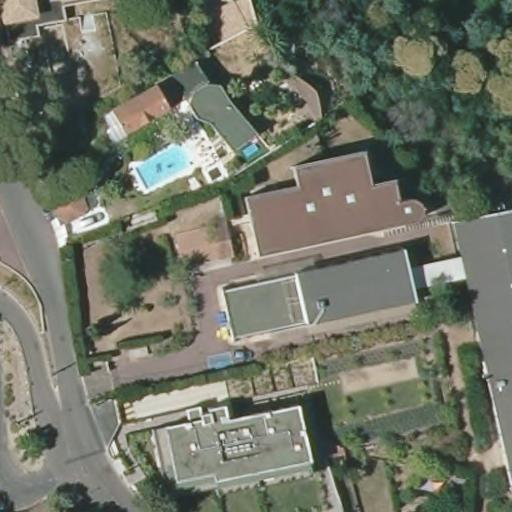pool: (132, 143, 193, 190)
